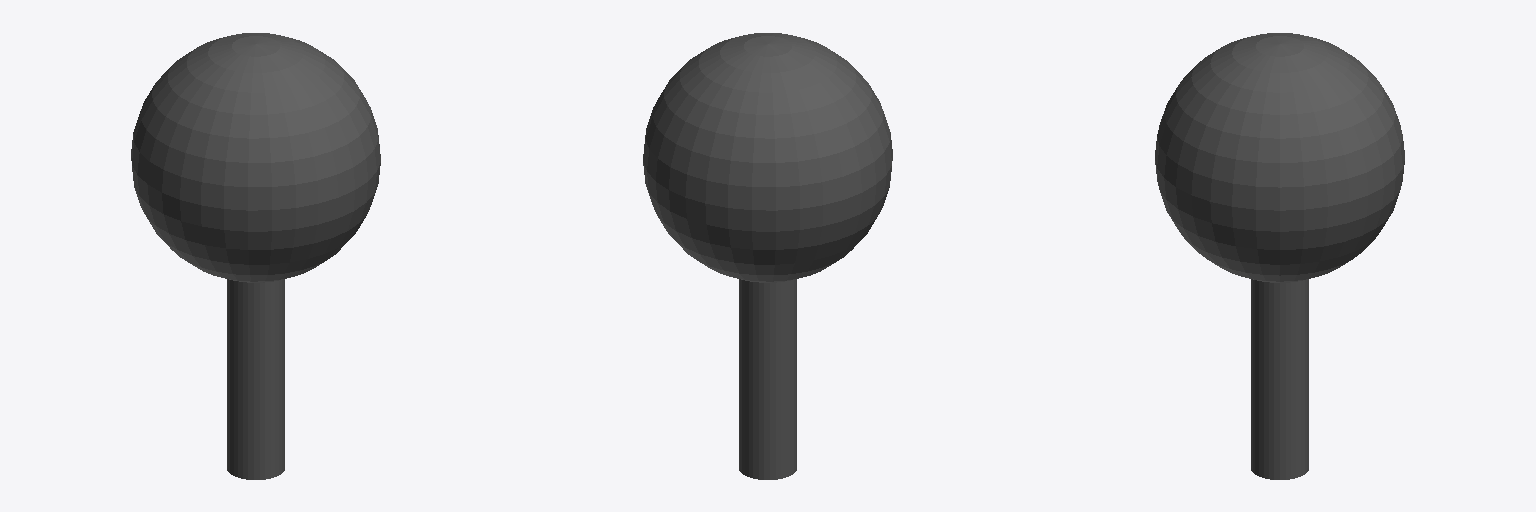
File: tree2.obj
The picture shows the model from 3 angles: view 1: azimuth 30°, elevation 25°; view 2: azimuth 150°, elevation 25°; view 3: azimuth 270°, elevation 25°; orthographic projection.
Bounding box in the file's own units: 1.36 × 2.54 × 1.36.